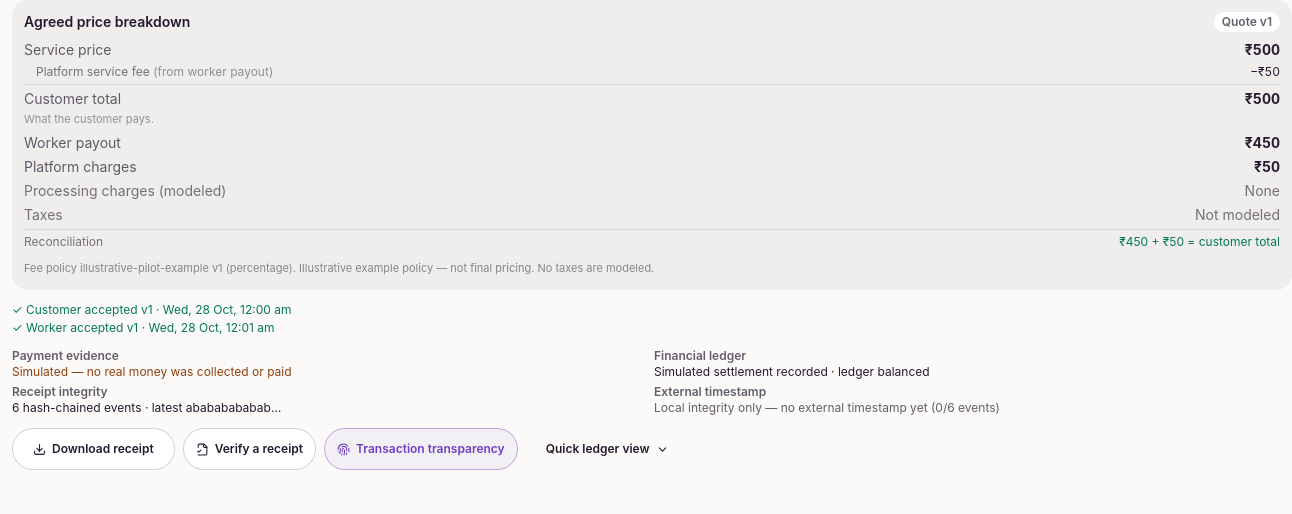
Test: transparency components › downloads the receipt from the API as a file
Click the button "Download receipt" at x=93, y=449, box [12,428,175,470]
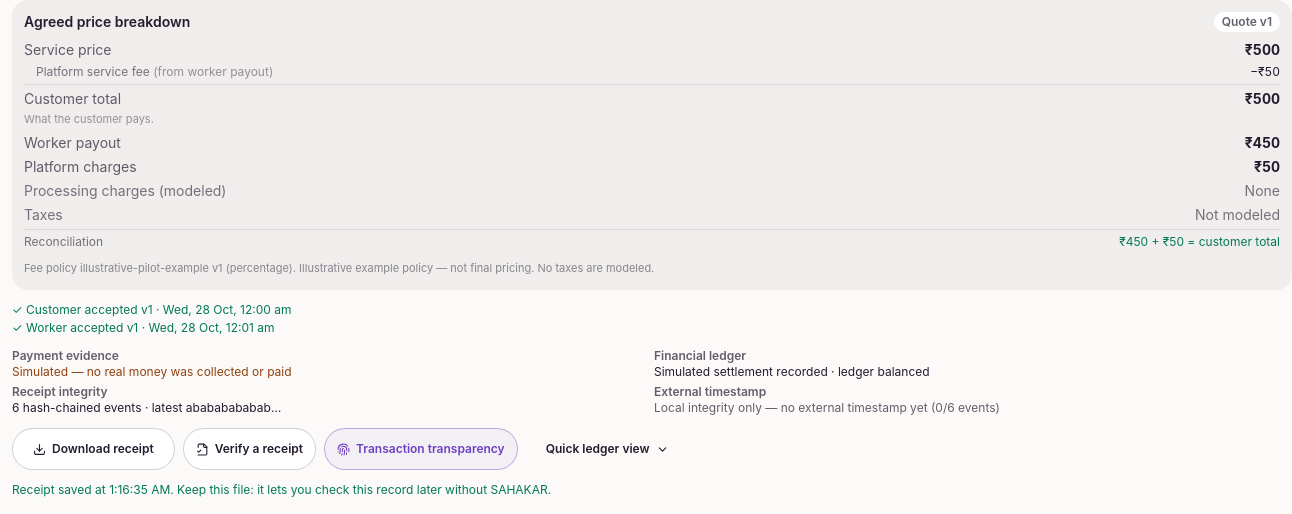
Result: the text "Receipt saved at" is shown at [12,482,109,497]
